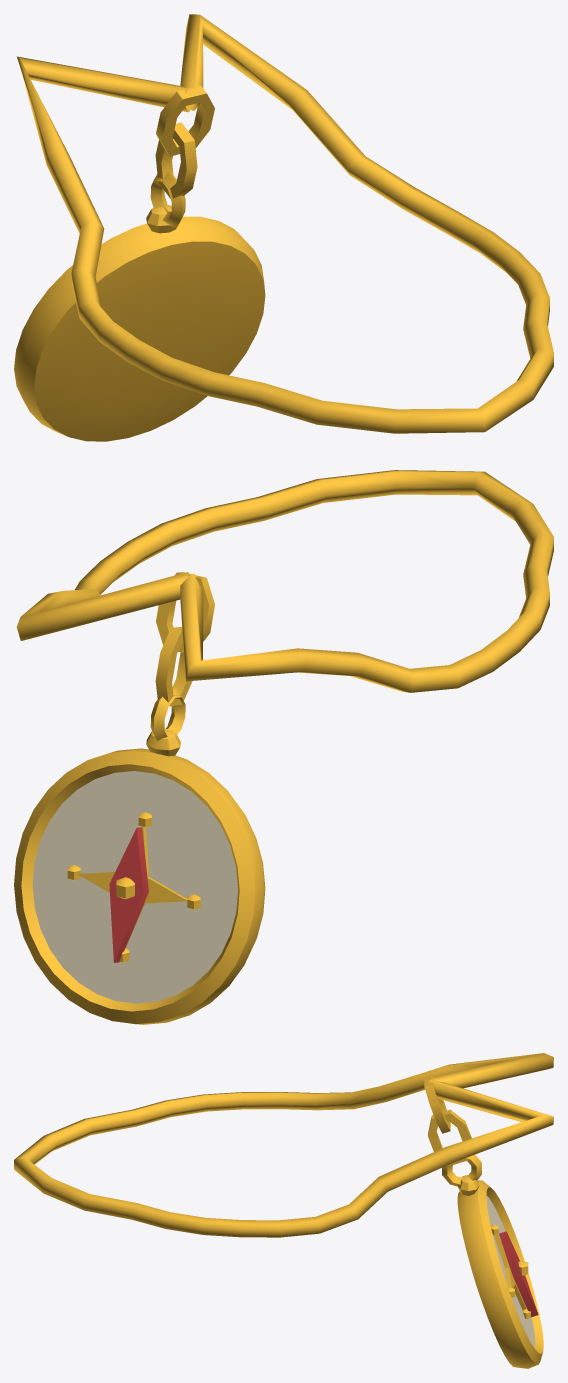
The model's file is boussole.fbx.
3 views of the same model, one above another, from view 1: azimuth 30°, elevation 25°; view 2: azimuth 150°, elevation 25°; view 3: azimuth 270°, elevation 25° (orthographic). The views are drawn at different scales.
Parts seen in each view (by area): view 1: Anim_Medaillon, Chaine; view 2: Anim_Medaillon, Chaine, Anim_Aiguille; view 3: Chaine, Anim_Medaillon, Anim_Aiguille.
Part boxes in pixels (box(x1,y1,x2,y2)): Anim_Medaillon: box(14, 85, 265, 441); Chaine: box(17, 14, 553, 433); Anim_Medaillon: box(14, 572, 265, 1024); Chaine: box(16, 470, 553, 692); Anim_Aiguille: box(109, 827, 148, 962); Chaine: box(14, 1053, 553, 1237); Anim_Medaillon: box(424, 1076, 543, 1368); Anim_Aiguille: box(499, 1231, 538, 1317).
Size of the model in its own units: 0.624 by 0.6007 by 1.05.
